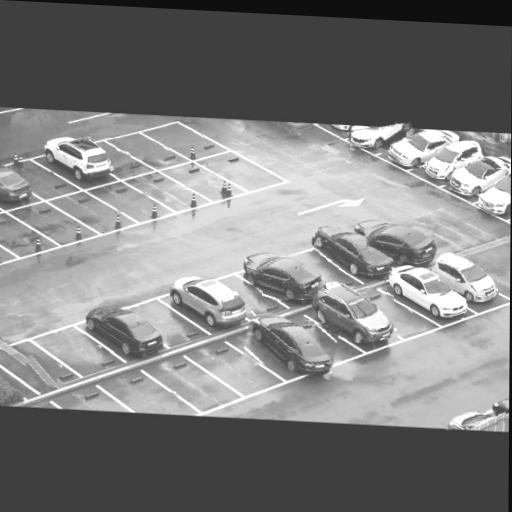busy: (244, 311, 337, 377), (84, 299, 171, 357), (319, 285, 397, 344), (312, 227, 395, 280), (168, 274, 250, 327), (246, 251, 326, 305), (364, 216, 438, 267), (395, 270, 465, 320), (437, 252, 499, 304), (46, 135, 116, 181), (389, 125, 451, 171), (450, 153, 508, 200), (426, 139, 481, 180), (347, 121, 414, 150), (445, 401, 506, 432), (482, 168, 511, 215), (0, 164, 34, 203)
free: (23, 356, 61, 386), (59, 338, 101, 363), (134, 391, 178, 413), (216, 357, 256, 380), (173, 373, 211, 394), (143, 312, 180, 332), (37, 215, 77, 233), (174, 129, 203, 153), (115, 193, 149, 213), (0, 225, 30, 247), (382, 305, 412, 326), (139, 140, 169, 161), (107, 148, 133, 171), (184, 173, 219, 190), (222, 162, 253, 181), (304, 261, 335, 279), (234, 285, 262, 304), (78, 206, 111, 222), (152, 184, 181, 199), (28, 172, 55, 188)
